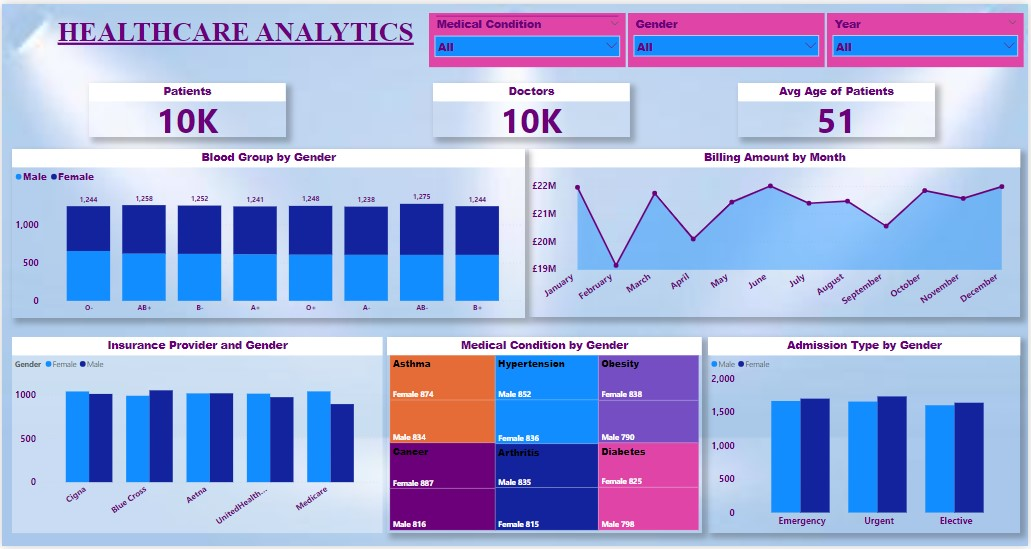

What the dashboard file says about the page in this screenshot:
{"tool":"powerbi","page":{"name":"Gender Distribution","canvas":[1800,950],"ordinal":0},"visuals":[{"type":"card","title":"Patients","fields":{"Values":["healthcare_dataset.Total Patient"]},"box":[17.4,129.7,586.5,110.3],"z":0},{"type":"card","title":"Doctors","fields":{"Values":["healthcare_dataset.Total Doctors"]},"box":[607.7,129.7,586.5,110.3],"z":1000},{"type":"card","title":"Avg Age of Patients","fields":{"Values":["Avg(healthcare_dataset.Age)"]},"box":[1200,129.7,586.5,110],"z":2000},{"type":"treemap","title":"Medical Condition by Gender","fields":{"Group":["healthcare_dataset.Medical Condition"],"Values":["healthcare_dataset.Male","healthcare_dataset.Female"]},"box":[676,584,552,344],"z":3000},{"type":"lineChart","title":"Billing Amount by Month","fields":{"Category":["healthcare_dataset.Discharge Date.Variation.Date Hierarchy.Month"],"Y":["Sum(healthcare_dataset.Billing Amount)"]},"box":[925,255,861.7,295],"z":4000},{"type":"columnChart","title":"Blood Group by Gender","fields":{"Category":["healthcare_dataset.Blood Type"],"Y":["healthcare_dataset.Male","healthcare_dataset.Female"]},"box":[18.2,254.5,900,296.4],"z":5000},{"type":"clusteredColumnChart","title":"Admission Type by Gender","fields":{"Y":["healthcare_dataset.Male","healthcare_dataset.Female"],"Category":["healthcare_dataset.Admission Type"]},"box":[1238.3,583.3,548.3,343.3],"z":6000},{"type":"textbox","box":[0,16.4,820,94.5],"z":7000},{"type":"slicer","fields":{"Values":["healthcare_dataset.Gender"]},"box":[1098.2,16.4,345.5,94.5],"z":8000},{"type":"slicer","fields":{"Values":["healthcare_dataset.Medical Condition"]},"box":[749.1,16.4,345.5,94.5],"z":9000},{"type":"clusteredColumnChart","title":"Insurance Provider and Gender","fields":{"Category":["healthcare_dataset.Insurance Provider"],"Series":["healthcare_dataset.Gender"],"Y":["healthcare_dataset.Total Patient"]},"box":[18,584,650,344],"z":10000},{"type":"slicer","fields":{"Values":["healthcare_dataset.Discharge Date.Variation.Date Hierarchy.Year"]},"box":[1447.3,16.4,345,94.5],"z":11000}]}

Visuals, with their boxes in screenshot pixels (x1, y1, x2, y2), scaled from the page's 1800x950 canvas onto the 1031x549 screenshot:
"Patients" card: 10/75/346/139
"Doctors" card: 348/75/684/139
"Avg Age of Patients" card: 687/75/1023/139
"Medical Condition by Gender" treemap: 387/337/703/536
"Billing Amount by Month" lineChart: 530/147/1023/318
"Blood Group by Gender" columnChart: 10/147/526/318
"Admission Type by Gender" clusteredColumnChart: 709/337/1023/535
textbox: 0/9/470/64
slicer - healthcare_dataset.Gender: 629/9/827/64
slicer - healthcare_dataset.Medical Condition: 429/9/627/64
"Insurance Provider and Gender" clusteredColumnChart: 10/337/383/536
slicer - healthcare_dataset.Discharge Date.Variation.Date Hierarchy.Year: 829/9/1027/64
